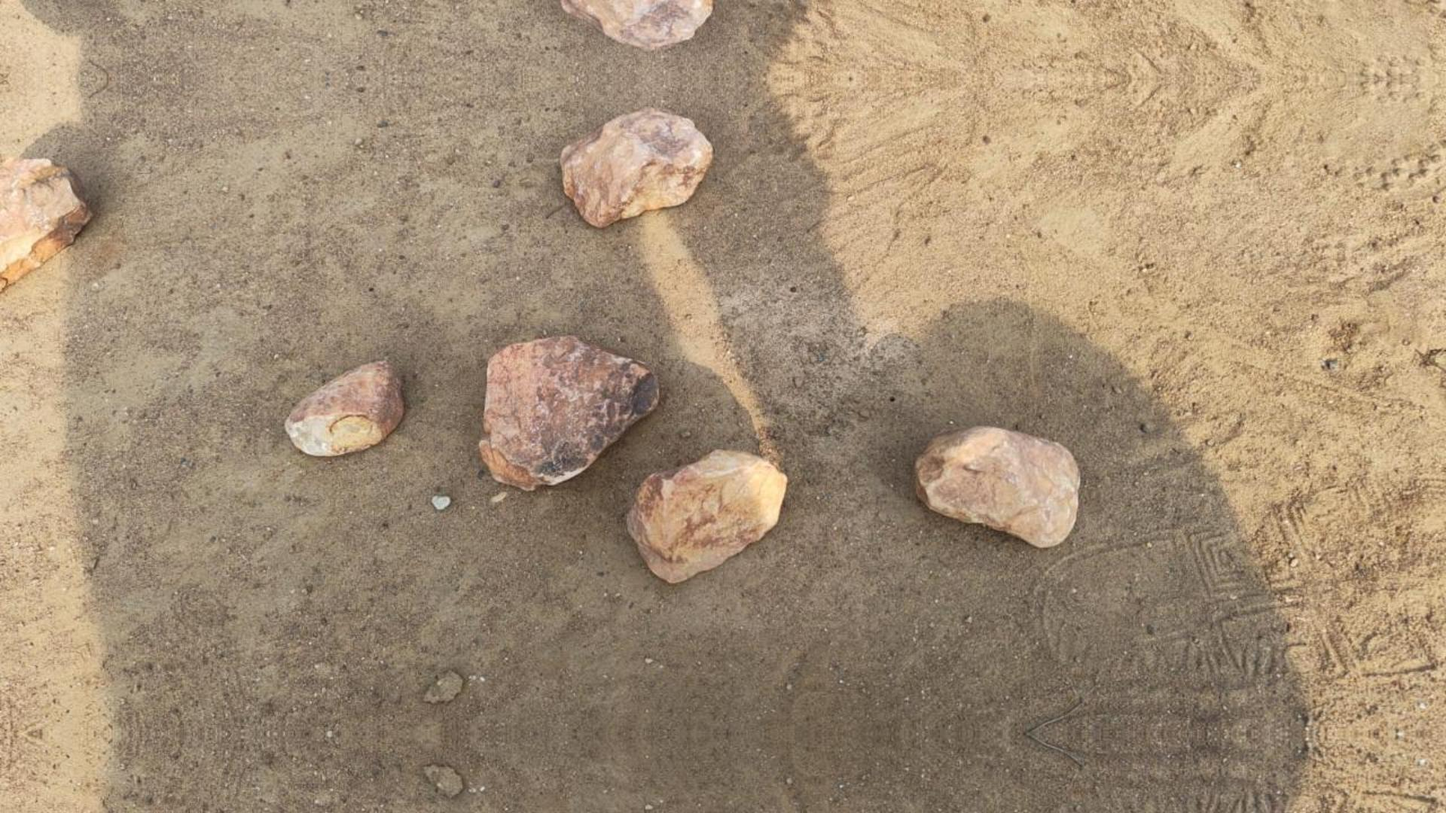rock: (479, 336, 657, 489), (627, 449, 786, 583), (915, 427, 1079, 547), (560, 108, 712, 227), (0, 158, 90, 289), (285, 361, 403, 455), (560, 0, 712, 49)
